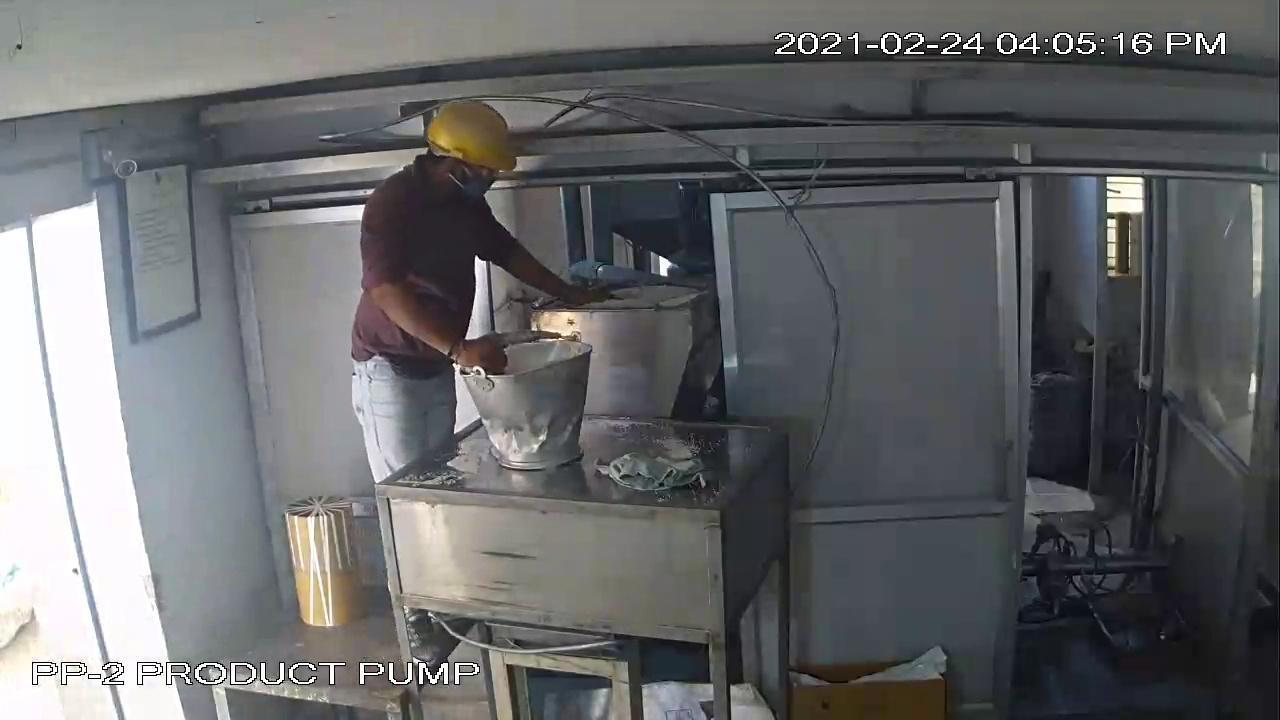helmet: (419, 90, 522, 182)
